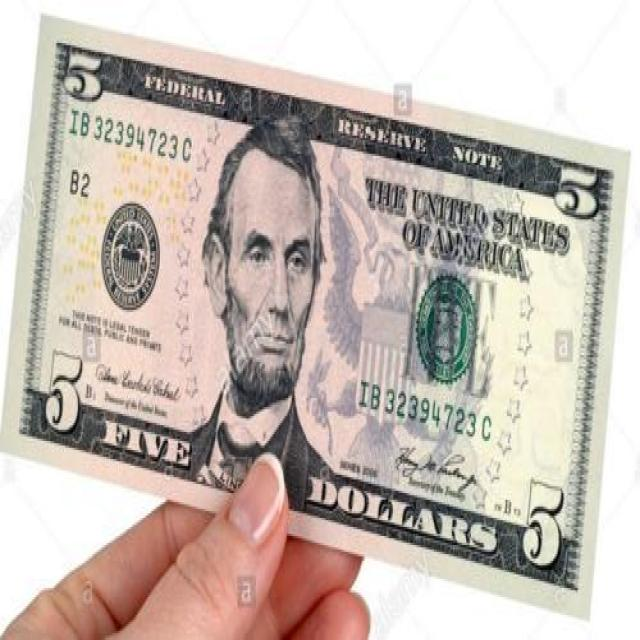5-Front: (0, 13, 632, 624)
